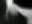person: (5, 1, 32, 24)
